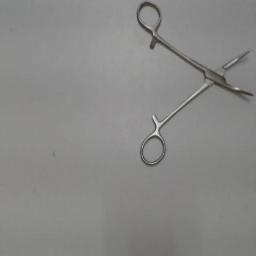Crile Artery Forceps: (134, 0, 256, 168)
